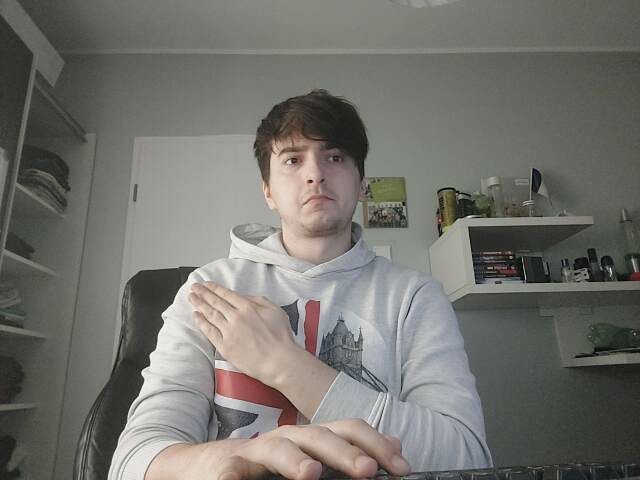please: (188, 280, 297, 379)
